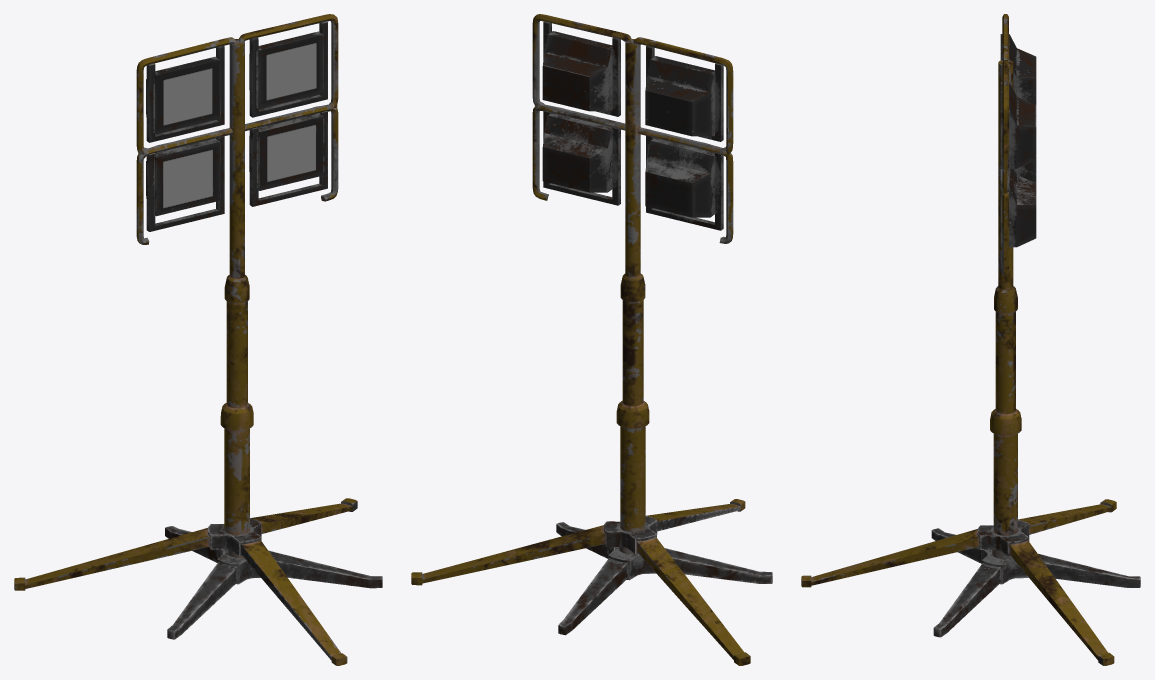
Rendered from Spotlight.fbx.
3 renders of one model, left to right at view 1: azimuth 30°, elevation 25°; view 2: azimuth 150°, elevation 25°; view 3: azimuth 270°, elevation 25°, orthographic. The views are drawn at different scales.
Visible parts, largest first — view 1: Cylinder.001; view 2: Cylinder.001; view 3: Cylinder.001.
Part boxes in pixels (bbox=[...]): Cylinder.001: bbox=[14, 14, 382, 665]; Cylinder.001: bbox=[411, 14, 772, 665]; Cylinder.001: bbox=[801, 14, 1140, 665].
Bounding box in the file's own units: 148 × 229 × 133.
1 material, 1 textured.
